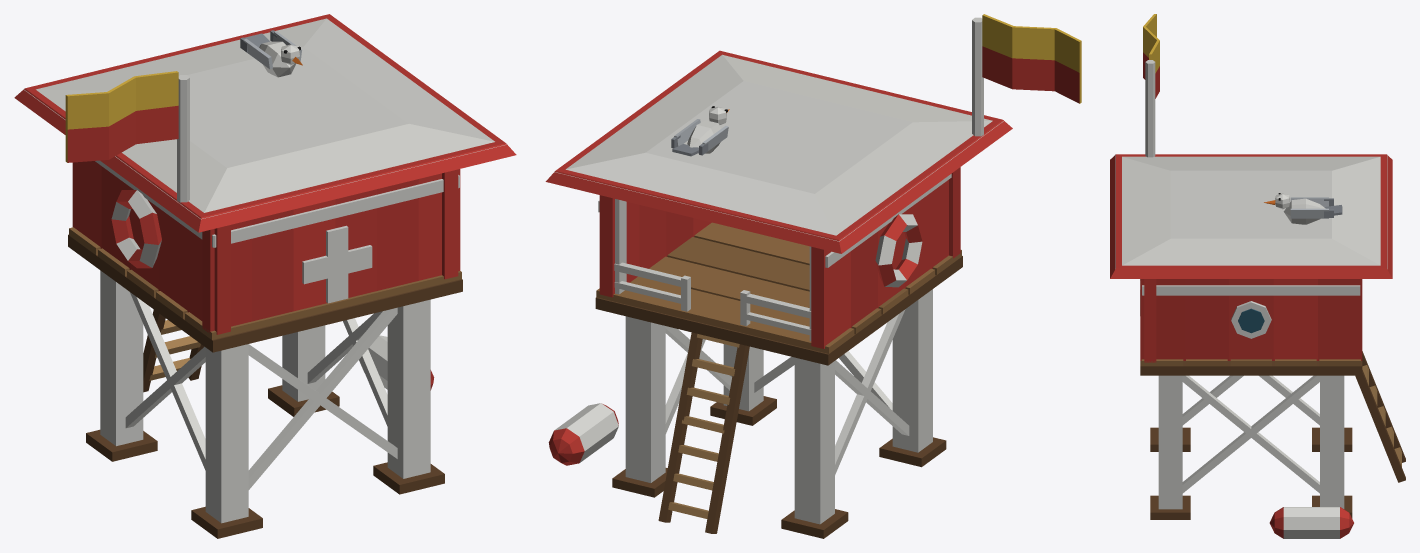
Rendered from Decor_BeachBar_Lifeguard.fbx.
3 renders of one model, left to right at view 1: azimuth 30°, elevation 25°; view 2: azimuth 150°, elevation 25°; view 3: azimuth 270°, elevation 25°, orthographic. The views are drawn at different scales.
Visible parts, largest first — view 1: Lifeguard_Body; view 2: Lifeguard_Body; view 3: Lifeguard_Body.
Part boxes in pixels (left/top/right/bottom): Lifeguard_Body: left=14, top=14, right=516, bottom=538; Lifeguard_Body: left=545, top=14, right=1081, bottom=538; Lifeguard_Body: left=1110, top=14, right=1405, bottom=538.
Size of the model in its own units: 19.85 by 20.2 by 14.71.
